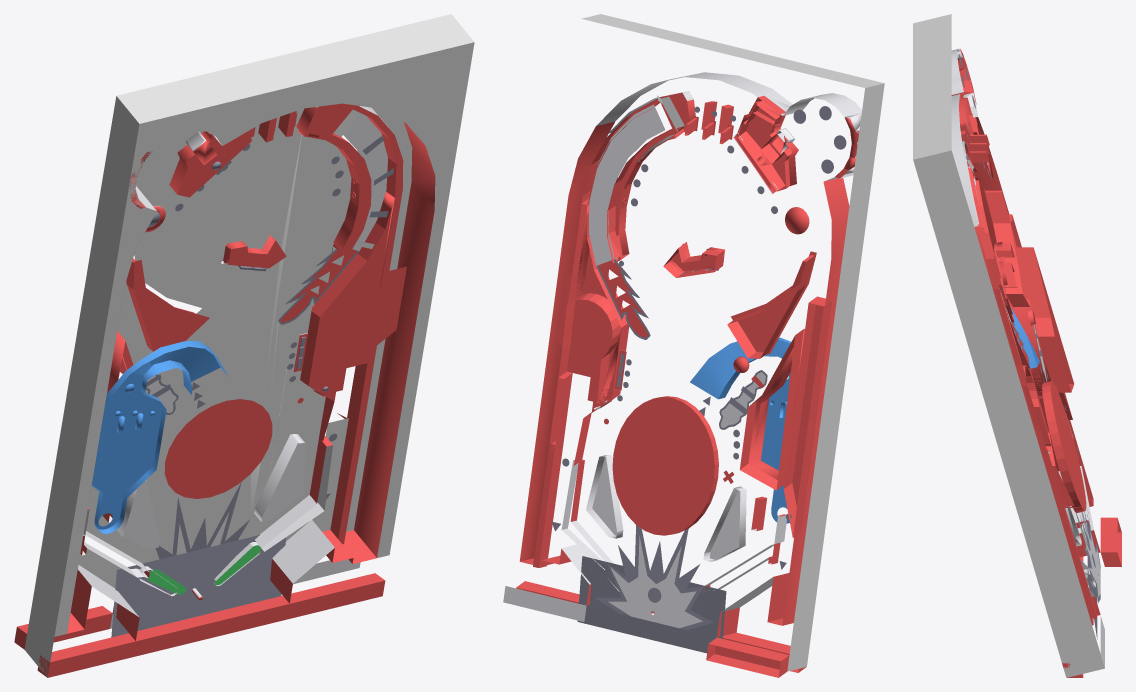
The model's file is FlipperBase.glb.
3 renders of one model, left to right at view 1: azimuth 30°, elevation 25°; view 2: azimuth 150°, elevation 25°; view 3: azimuth 270°, elevation 25°, orthographic. The views are drawn at different scales.
Parts seen in each view (by area): view 1: col_floor_playfield_blue, col_wall_frame_black, col_wall_main_outer, col_ramp_main, col_floor_drain, col_wall_center, col_floor_detail, col_wall_shooter, col_wall_panel, col_ref_plunger_004, col_ref_wall_002, col_ref_flipper_027 (+6 smaller); view 2: col_wall_frame_black, col_floor_playfield_blue, col_wall_center, col_wall_main_outer, col_floor_detail, col_floor_drain, col_wall_left_fill, col_ref_wall_002, col_ramp_main, col_ref_plunger_star, col_wall_shooter, col_ref_floor_main (+7 smaller); view 3: col_floor_playfield_blue, col_wall_frame_black, col_wall_center, col_ref_floor_main, col_wall_left_fill, col_wall_main_outer, col_floor_detail, col_wall_shooter, col_ref_plunger_star, col_ramp_main.
Boxes of the visible parts, x1,y1,x2,y2 form: col_floor_playfield_blue: (24, 14, 474, 676); col_wall_frame_black: (14, 103, 406, 677); col_wall_main_outer: (129, 107, 435, 600); col_ramp_main: (91, 341, 228, 533); col_floor_drain: (111, 535, 286, 637); col_wall_center: (164, 399, 278, 498); col_floor_detail: (145, 136, 393, 559); col_wall_shooter: (133, 111, 356, 403); col_wall_panel: (176, 134, 393, 350); col_ref_plunger_004: (123, 443, 305, 549); col_ref_wall_002: (343, 109, 387, 251); col_ref_flipper_027: (272, 520, 334, 583); col_wall_frame_black: (516, 92, 832, 677); col_floor_playfield_blue: (581, 14, 884, 671); col_wall_center: (612, 396, 718, 535); col_wall_main_outer: (519, 99, 859, 613); col_floor_detail: (551, 106, 846, 630); col_floor_drain: (577, 556, 726, 653); col_wall_left_fill: (782, 178, 849, 625); col_ref_wall_002: (589, 104, 665, 265); col_ramp_main: (690, 337, 791, 523); col_ref_plunger_star: (608, 372, 765, 628); col_wall_shooter: (599, 96, 816, 483); col_ref_floor_main: (594, 72, 861, 614); col_floor_playfield_blue: (913, 14, 1104, 677); col_wall_frame_black: (962, 97, 1121, 677); col_wall_center: (1042, 381, 1086, 512); col_ref_floor_main: (951, 48, 1098, 577); col_wall_left_fill: (971, 117, 1093, 499); col_wall_main_outer: (957, 49, 1098, 625); col_floor_detail: (958, 54, 1100, 602); col_wall_shooter: (951, 92, 1028, 363); col_ref_plunger_star: (1033, 324, 1100, 596); col_ramp_main: (1010, 307, 1039, 368).
Bounding box in the file's own units: 28.58 × 51.53 × 18.48.
